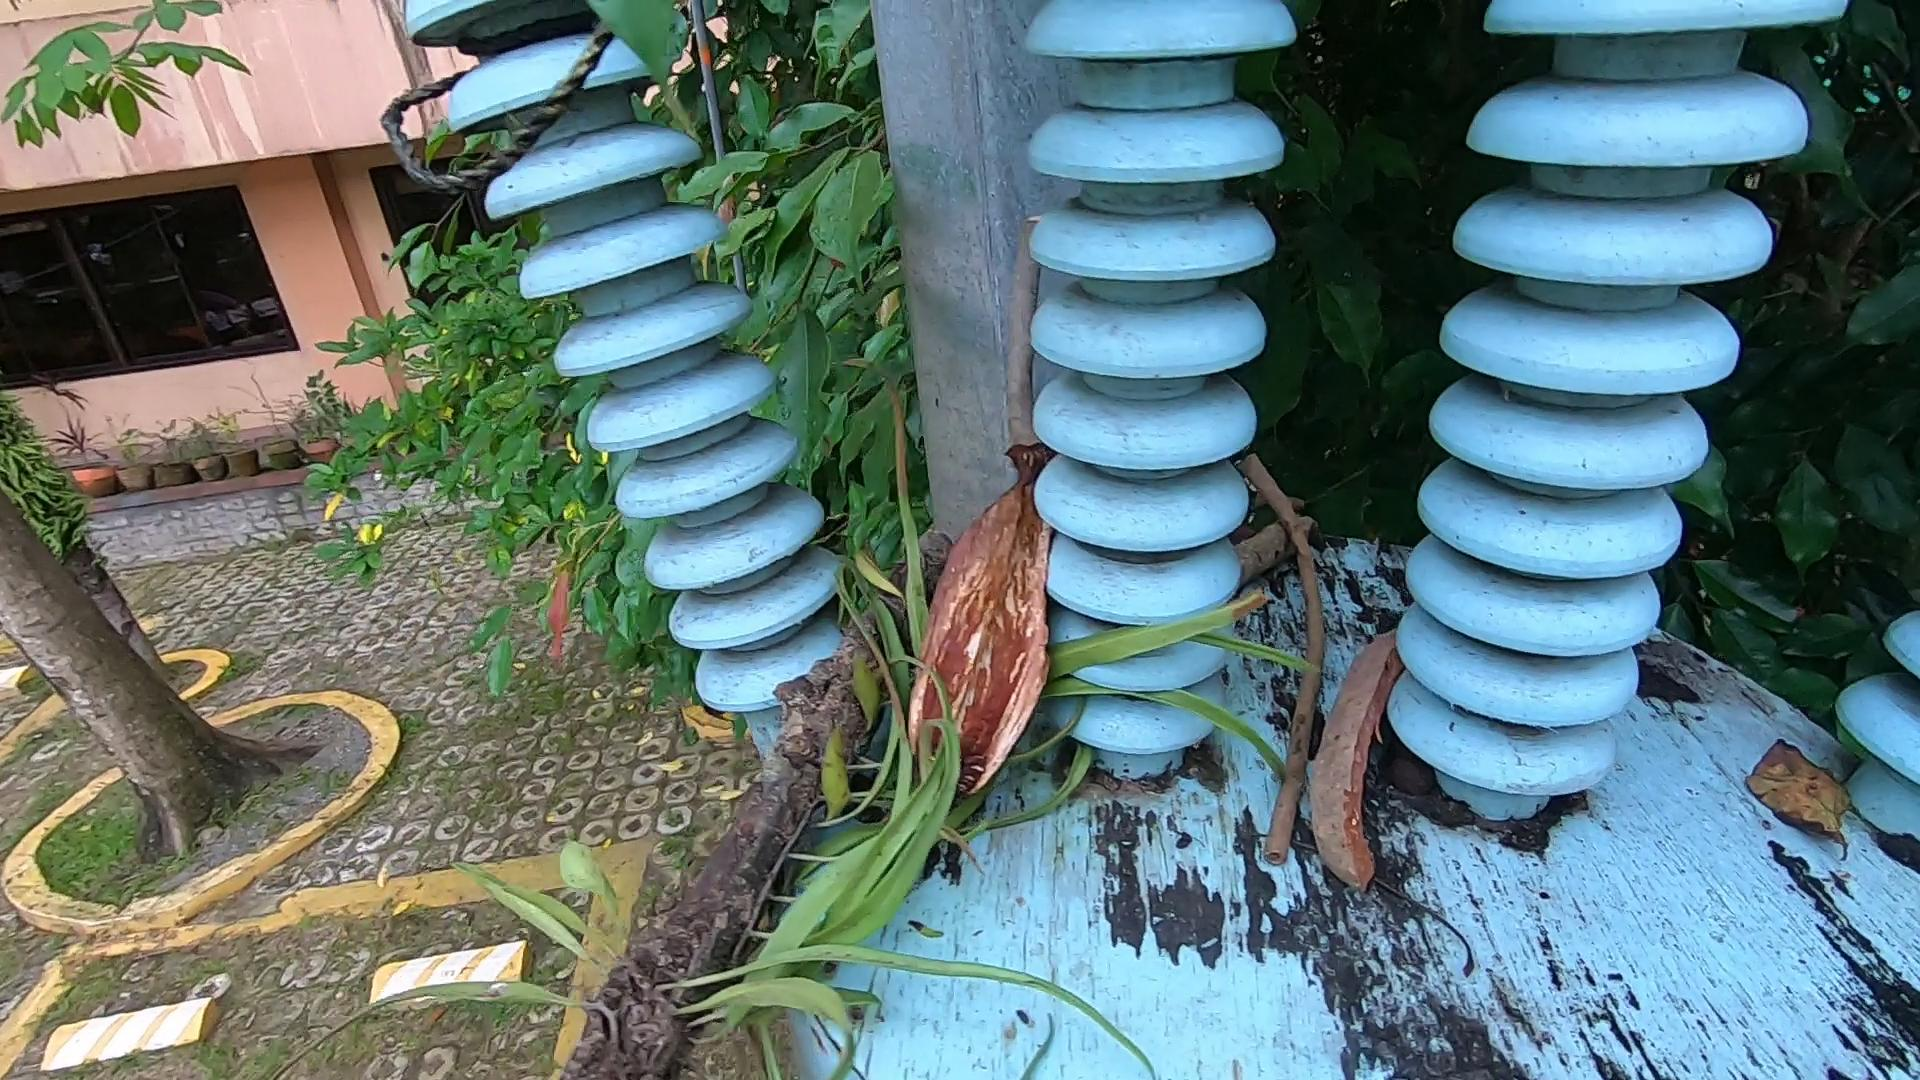branch with leaves: (276, 384, 1329, 1080), (989, 203, 1054, 462)
leaf: (1749, 735, 1858, 861)
mahogany fruit: (897, 394, 1104, 807), (1299, 580, 1403, 920)
tree branch: (1241, 430, 1317, 858), (1233, 498, 1320, 582)
